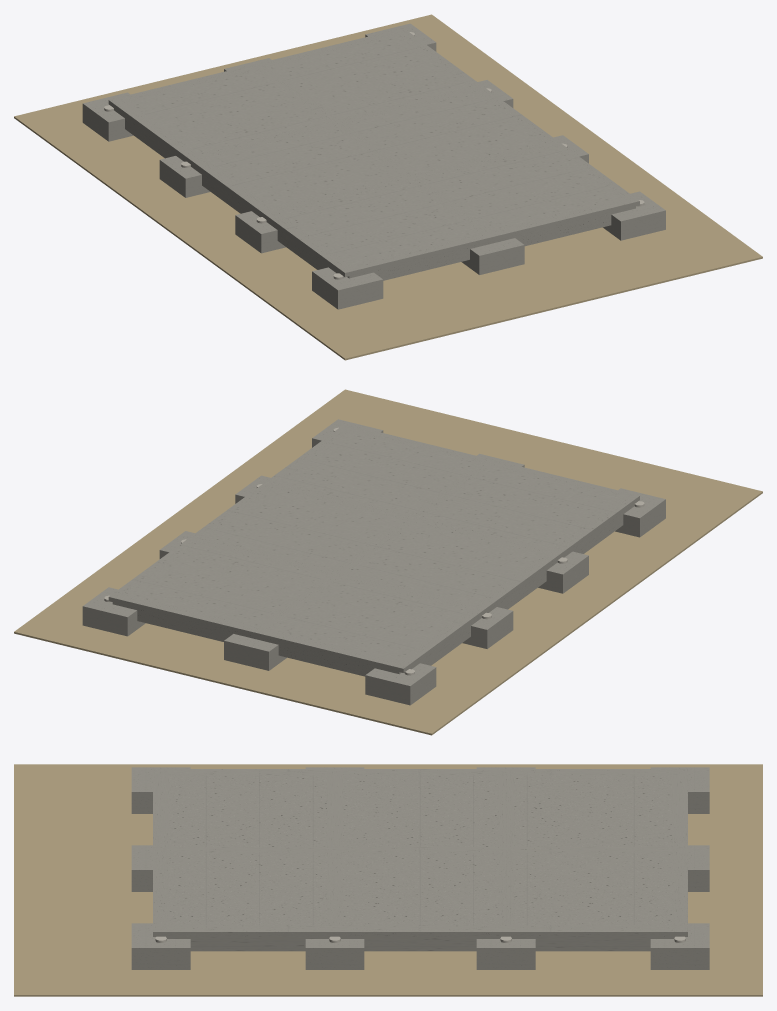
Rendered from phase-1.glb.
3 views of the same model, one above another, from view 1: azimuth 30°, elevation 25°; view 2: azimuth 150°, elevation 25°; view 3: azimuth 270°, elevation 25° (orthographic). The views are drawn at different scales.
Bounding box in the file's own units: 10.2 × 0.64 × 14.
3 materials, 1 textured.
